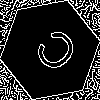C: (25, 25, 81, 82)
